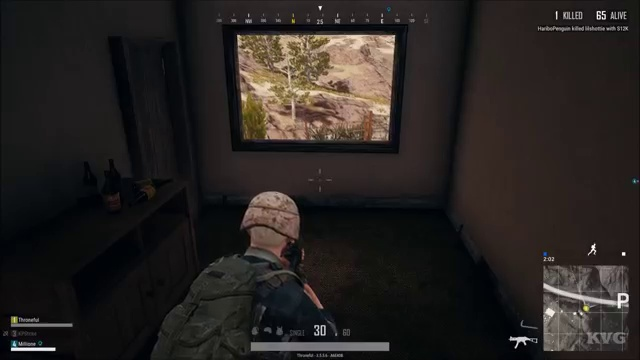Player: (174, 190, 368, 323)
